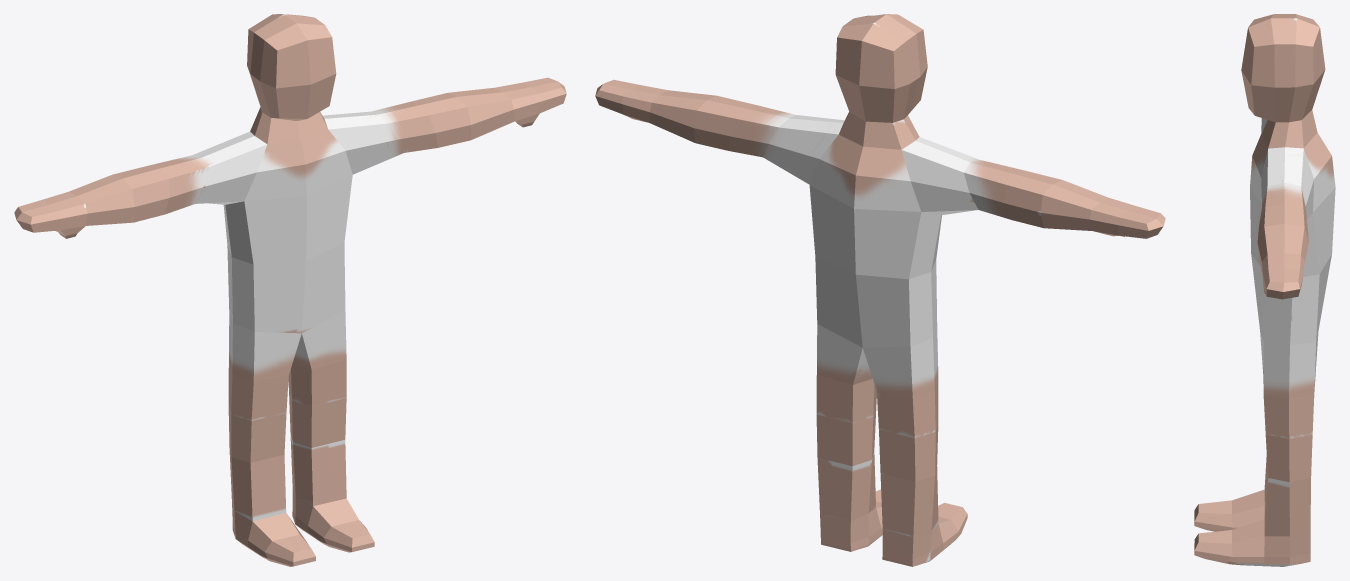
The model's file is basichumanoid.fbx.
3 views of the same model, side by side, from view 1: azimuth 30°, elevation 25°; view 2: azimuth 150°, elevation 25°; view 3: azimuth 270°, elevation 25° (orthographic). The views are drawn at different scales.
Parts seen in each view (by area): view 1: Chest, Hips, Head, RightThigh, RightLowerLeg, LeftLowerLeg, RightArm, LeftArm, LeftThigh, RightForearm, LeftForearm, LeftFoot (+4 smaller); view 2: Chest, Head, Hips, RightArm, RightThigh, RightLowerLeg, LeftLowerLeg, LeftArm, LeftThigh, RightForearm, LeftForearm, RightFoot (+4 smaller); view 3: Head, LeftThigh, LeftLowerLeg, Chest, Hips, LeftFoot, LeftArm, LeftForearm, RightFoot, LeftHand, Neck.
Part boxes in pixels (x1,y1,x2,y2): Chest: (223, 129, 352, 264); Hips: (227, 242, 345, 333); Head: (247, 14, 336, 120); RightThigh: (228, 314, 301, 420); RightLowerLeg: (228, 405, 286, 521); LeftLowerLeg: (289, 391, 346, 506); RightArm: (152, 131, 267, 214); LeftArm: (323, 102, 437, 174); LeftThigh: (288, 310, 346, 406); RightForearm: (69, 165, 169, 225); LeftForearm: (410, 87, 515, 147); LeftFoot: (292, 487, 374, 552); Chest: (809, 135, 941, 279); Head: (835, 14, 927, 122); Hips: (815, 256, 937, 347); RightArm: (901, 137, 1022, 219); RightThigh: (863, 327, 938, 438); RightLowerLeg: (879, 422, 938, 537); LeftLowerLeg: (816, 407, 876, 521); LeftArm: (729, 105, 844, 184); LeftThigh: (816, 324, 876, 423); RightForearm: (1004, 170, 1107, 230); LeftForearm: (649, 90, 755, 150); RightFoot: (882, 502, 967, 566); Head: (1241, 14, 1325, 122); LeftThigh: (1260, 331, 1318, 438); LeftLowerLeg: (1264, 434, 1312, 536); Chest: (1250, 122, 1335, 276); Hips: (1251, 254, 1331, 345); LeftFoot: (1194, 519, 1310, 566); LeftArm: (1259, 147, 1313, 224); LeftForearm: (1257, 203, 1308, 274); RightFoot: (1194, 489, 1265, 531); LeftHand: (1262, 253, 1304, 299); Neck: (1262, 110, 1317, 148).
Bounding box in the file's own units: 226 × 203 × 49.36.
Materials: 1 (1 with a texture image).
